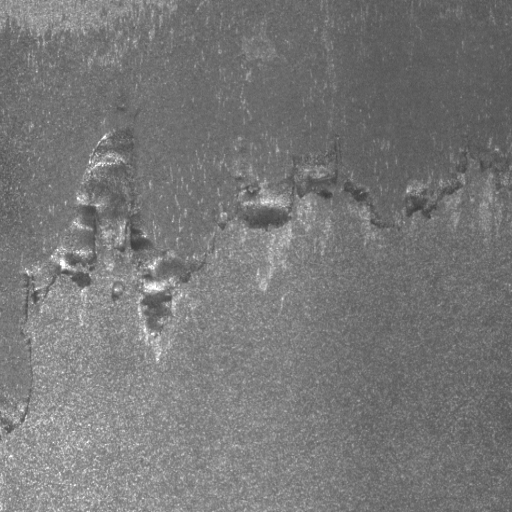aokeng: (65, 125, 189, 354)
